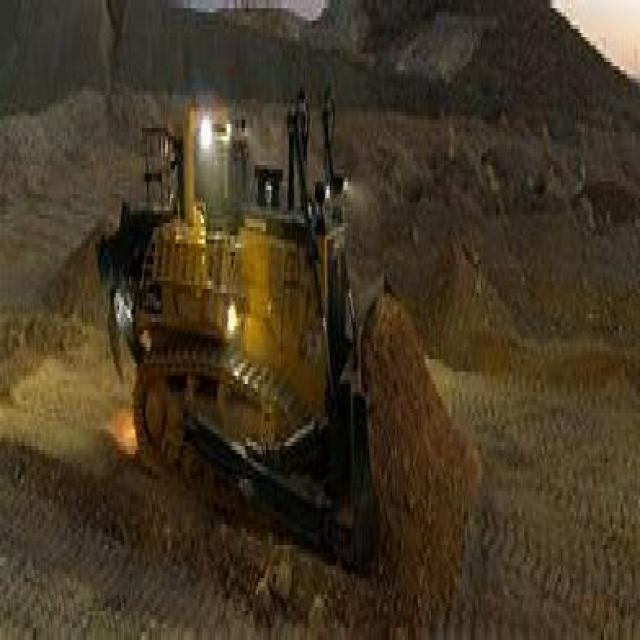Bulldozer: (93, 62, 421, 619)
